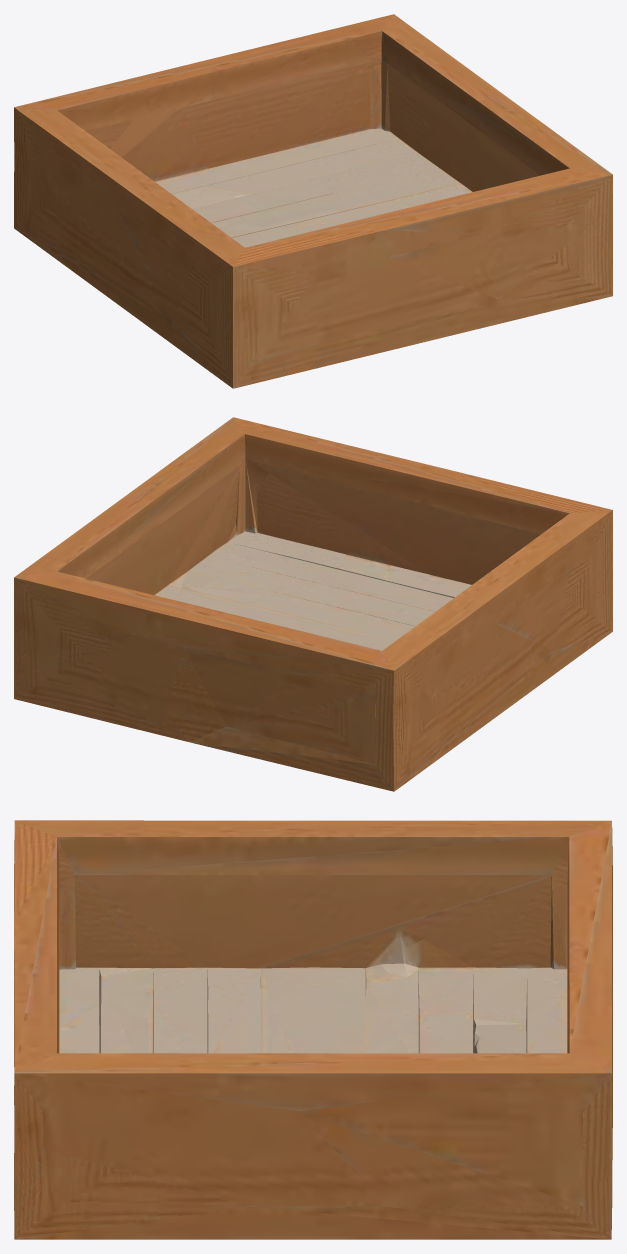
File: bedframe.glb
The picture shows the model from 3 angles, top to bottom: view 1: azimuth 30°, elevation 25°; view 2: azimuth 150°, elevation 25°; view 3: azimuth 270°, elevation 25°; orthographic projection. The views are drawn at different scales.
Size of the model in its own units: 1.9 by 0.5884 by 1.9.
1 material, 1 textured.
